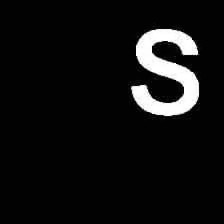LTR_S: (124, 21, 206, 124)
